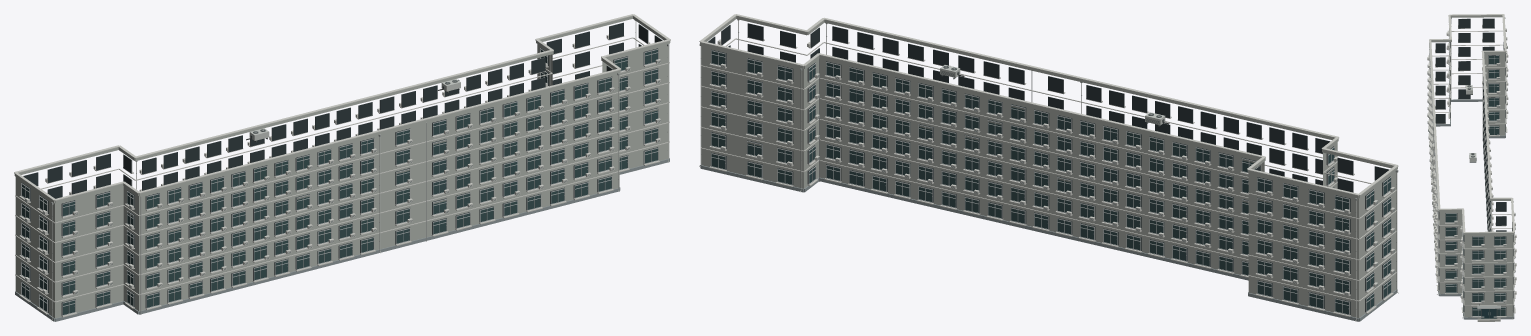
The model's file is osm_way_223859797.glb.
3 renders of one model, left to right at view 1: azimuth 30°, elevation 25°; view 2: azimuth 150°, elevation 25°; view 3: azimuth 270°, elevation 25°, orthographic. The views are drawn at different scales.
Parts seen in each view (by area): view 1: Architecture | 7, Windows and facade details | 7, Roof services | 7, EXTERIOR::osm_way_223859797::rainwater and roof service deta; view 2: Windows and facade details | 7, Architecture | 7, Roof services | 7, EXTERIOR::osm_way_223859797::rainwater and roof service deta; view 3: Windows and facade details | 7, Architecture | 7, Roof services | 7, EXTERIOR::osm_way_223859797::rainwater and roof service deta, EXTERIOR::osm_way_223859797::inferred entry doors canopy and.
Part boxes in pixels (box(x1,y1,x2,y2)): Architecture | 7: box(14, 16, 670, 321); Windows and facade details | 7: box(19, 22, 662, 317); Roof services | 7: box(14, 14, 670, 200); EXTERIOR::osm_way_223859797::rainwater and roof service deta: box(51, 20, 669, 320); Windows and facade details | 7: box(707, 23, 1394, 316); Architecture | 7: box(700, 16, 1397, 321); Roof services | 7: box(699, 14, 1398, 195); EXTERIOR::osm_way_223859797::rainwater and roof service deta: box(699, 19, 1398, 321); Windows and facade details | 7: box(1427, 18, 1516, 317); Architecture | 7: box(1431, 15, 1514, 319); Roof services | 7: box(1429, 14, 1514, 233); EXTERIOR::osm_way_223859797::rainwater and roof service deta: box(1432, 17, 1513, 319); EXTERIOR::osm_way_223859797::inferred entry doors canopy and: box(1477, 304, 1500, 321).
Bounding box in the file's own units: 108 × 20.58 × 18.39.
